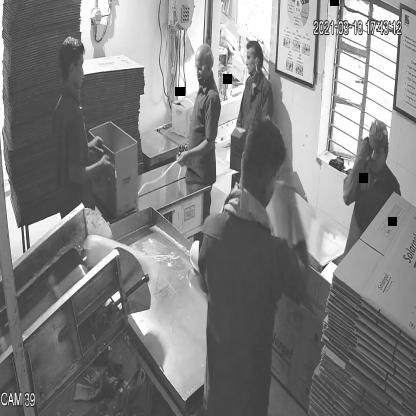no_glove: (339, 131, 370, 207), (66, 151, 116, 188), (172, 131, 215, 172)
